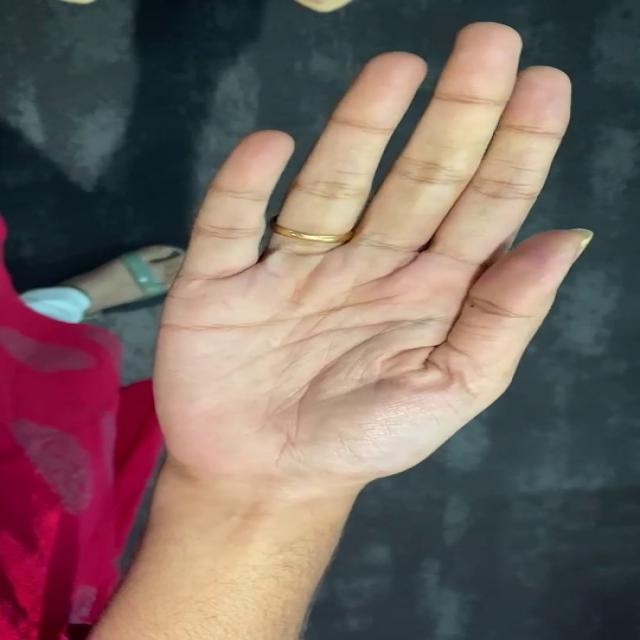no-gloves: (112, 14, 640, 502)
